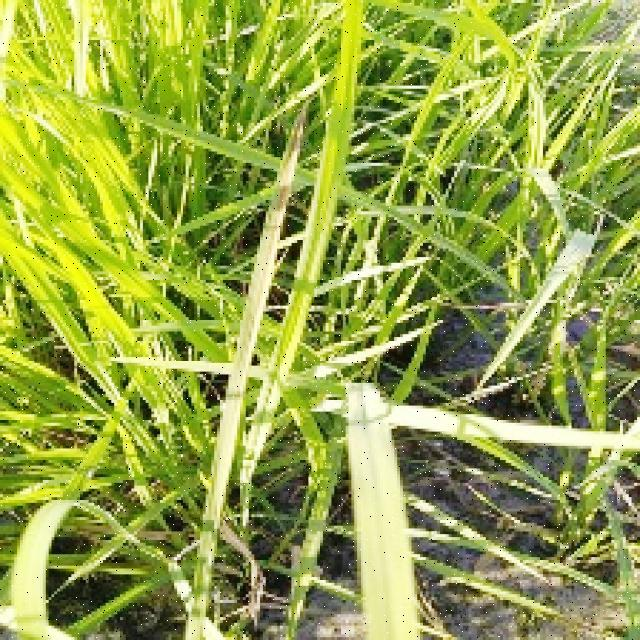health: (343, 383, 420, 640)
